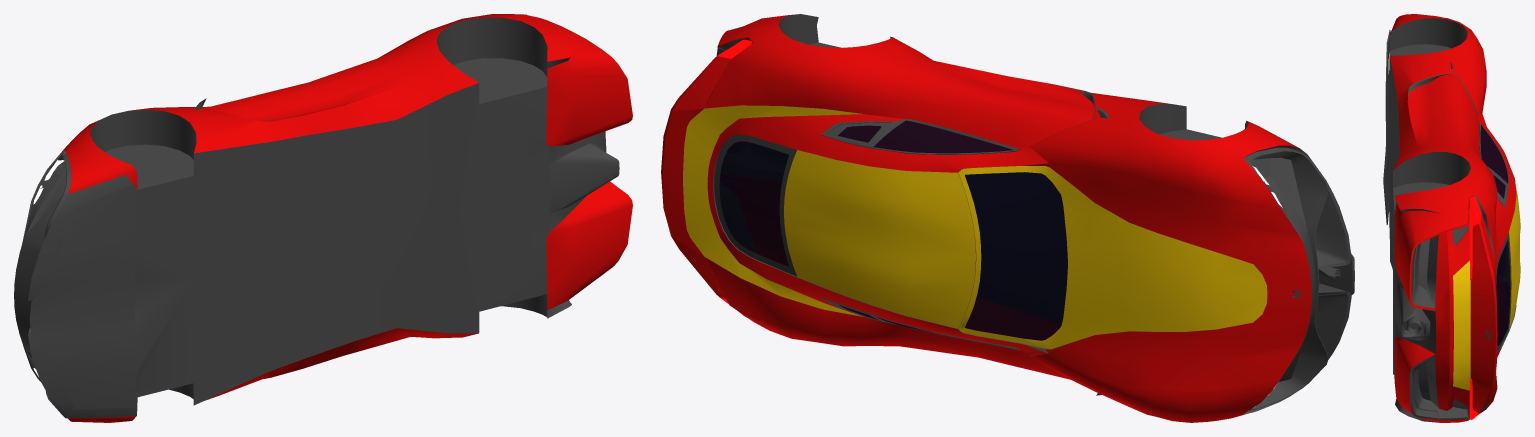
The model's file is Car_test_Iron2.glb.
The picture shows the model from 3 angles, left to right: view 1: azimuth 30°, elevation 25°; view 2: azimuth 150°, elevation 25°; view 3: azimuth 270°, elevation 25°; orthographic projection. The views are drawn at different scales.
Parts seen in each view (by area): view 1: 3DGeom-009, 3DGeom-004; view 2: 3DGeom-004, 3DGeom-005, 3DGeom-006, 3DGeom-009; view 3: 3DGeom-004, 3DGeom-009, 3DGeom-005, 3DGeom-006, 3DGeom-008.
Boxes of the visible parts, x1,y1,x2,y2 form: 3DGeom-009: [14, 17, 619, 418]; 3DGeom-004: [49, 14, 632, 422]; 3DGeom-004: [661, 15, 1312, 422]; 3DGeom-005: [683, 105, 1267, 349]; 3DGeom-006: [719, 121, 1067, 340]; 3DGeom-009: [705, 14, 1354, 414]; 3DGeom-004: [1390, 14, 1516, 422]; 3DGeom-009: [1383, 18, 1516, 422]; 3DGeom-005: [1453, 186, 1520, 390]; 3DGeom-006: [1480, 125, 1510, 345]; 3DGeom-008: [1469, 196, 1481, 419].
Size of the model in its own units: 7.27 by 3.27 by 1.73.
